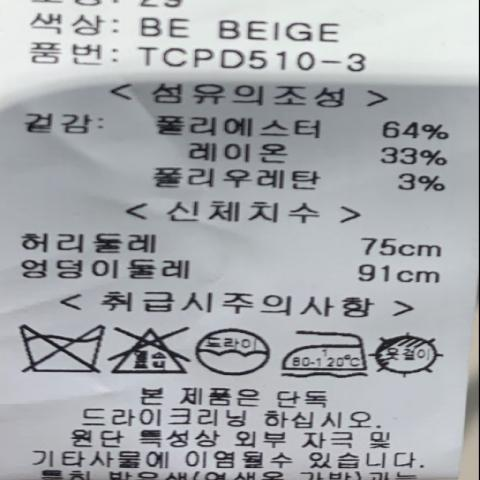DN_wash: (17, 322, 111, 382)
dry_clean: (198, 327, 272, 381)
iron_low: (284, 323, 370, 379)
line_dry_in_shade: (376, 324, 446, 382)
non_chlorine_bleach: (112, 320, 195, 381)
